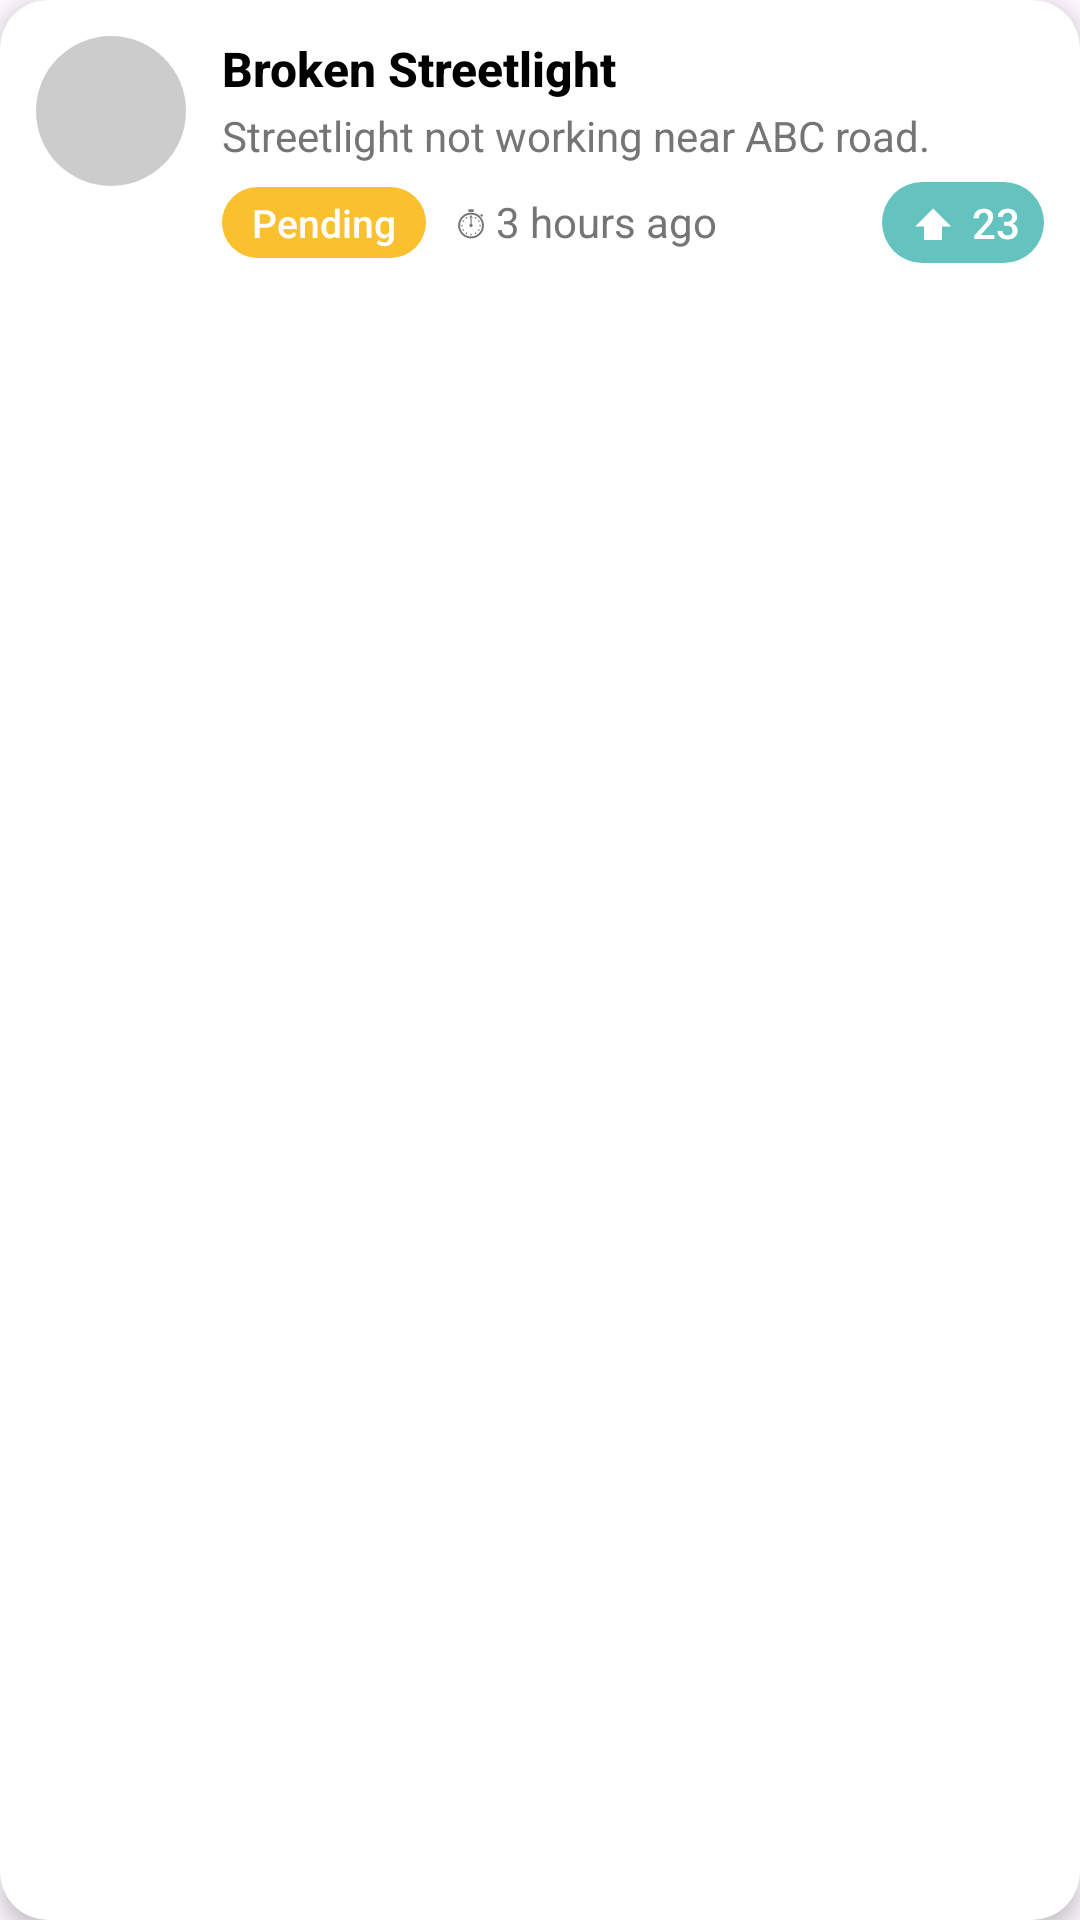

Locate icon controls on the screen. Image size 1080×1920, boxes as (x1, y1, x2, y2).
upvote: (915, 208, 951, 240)
